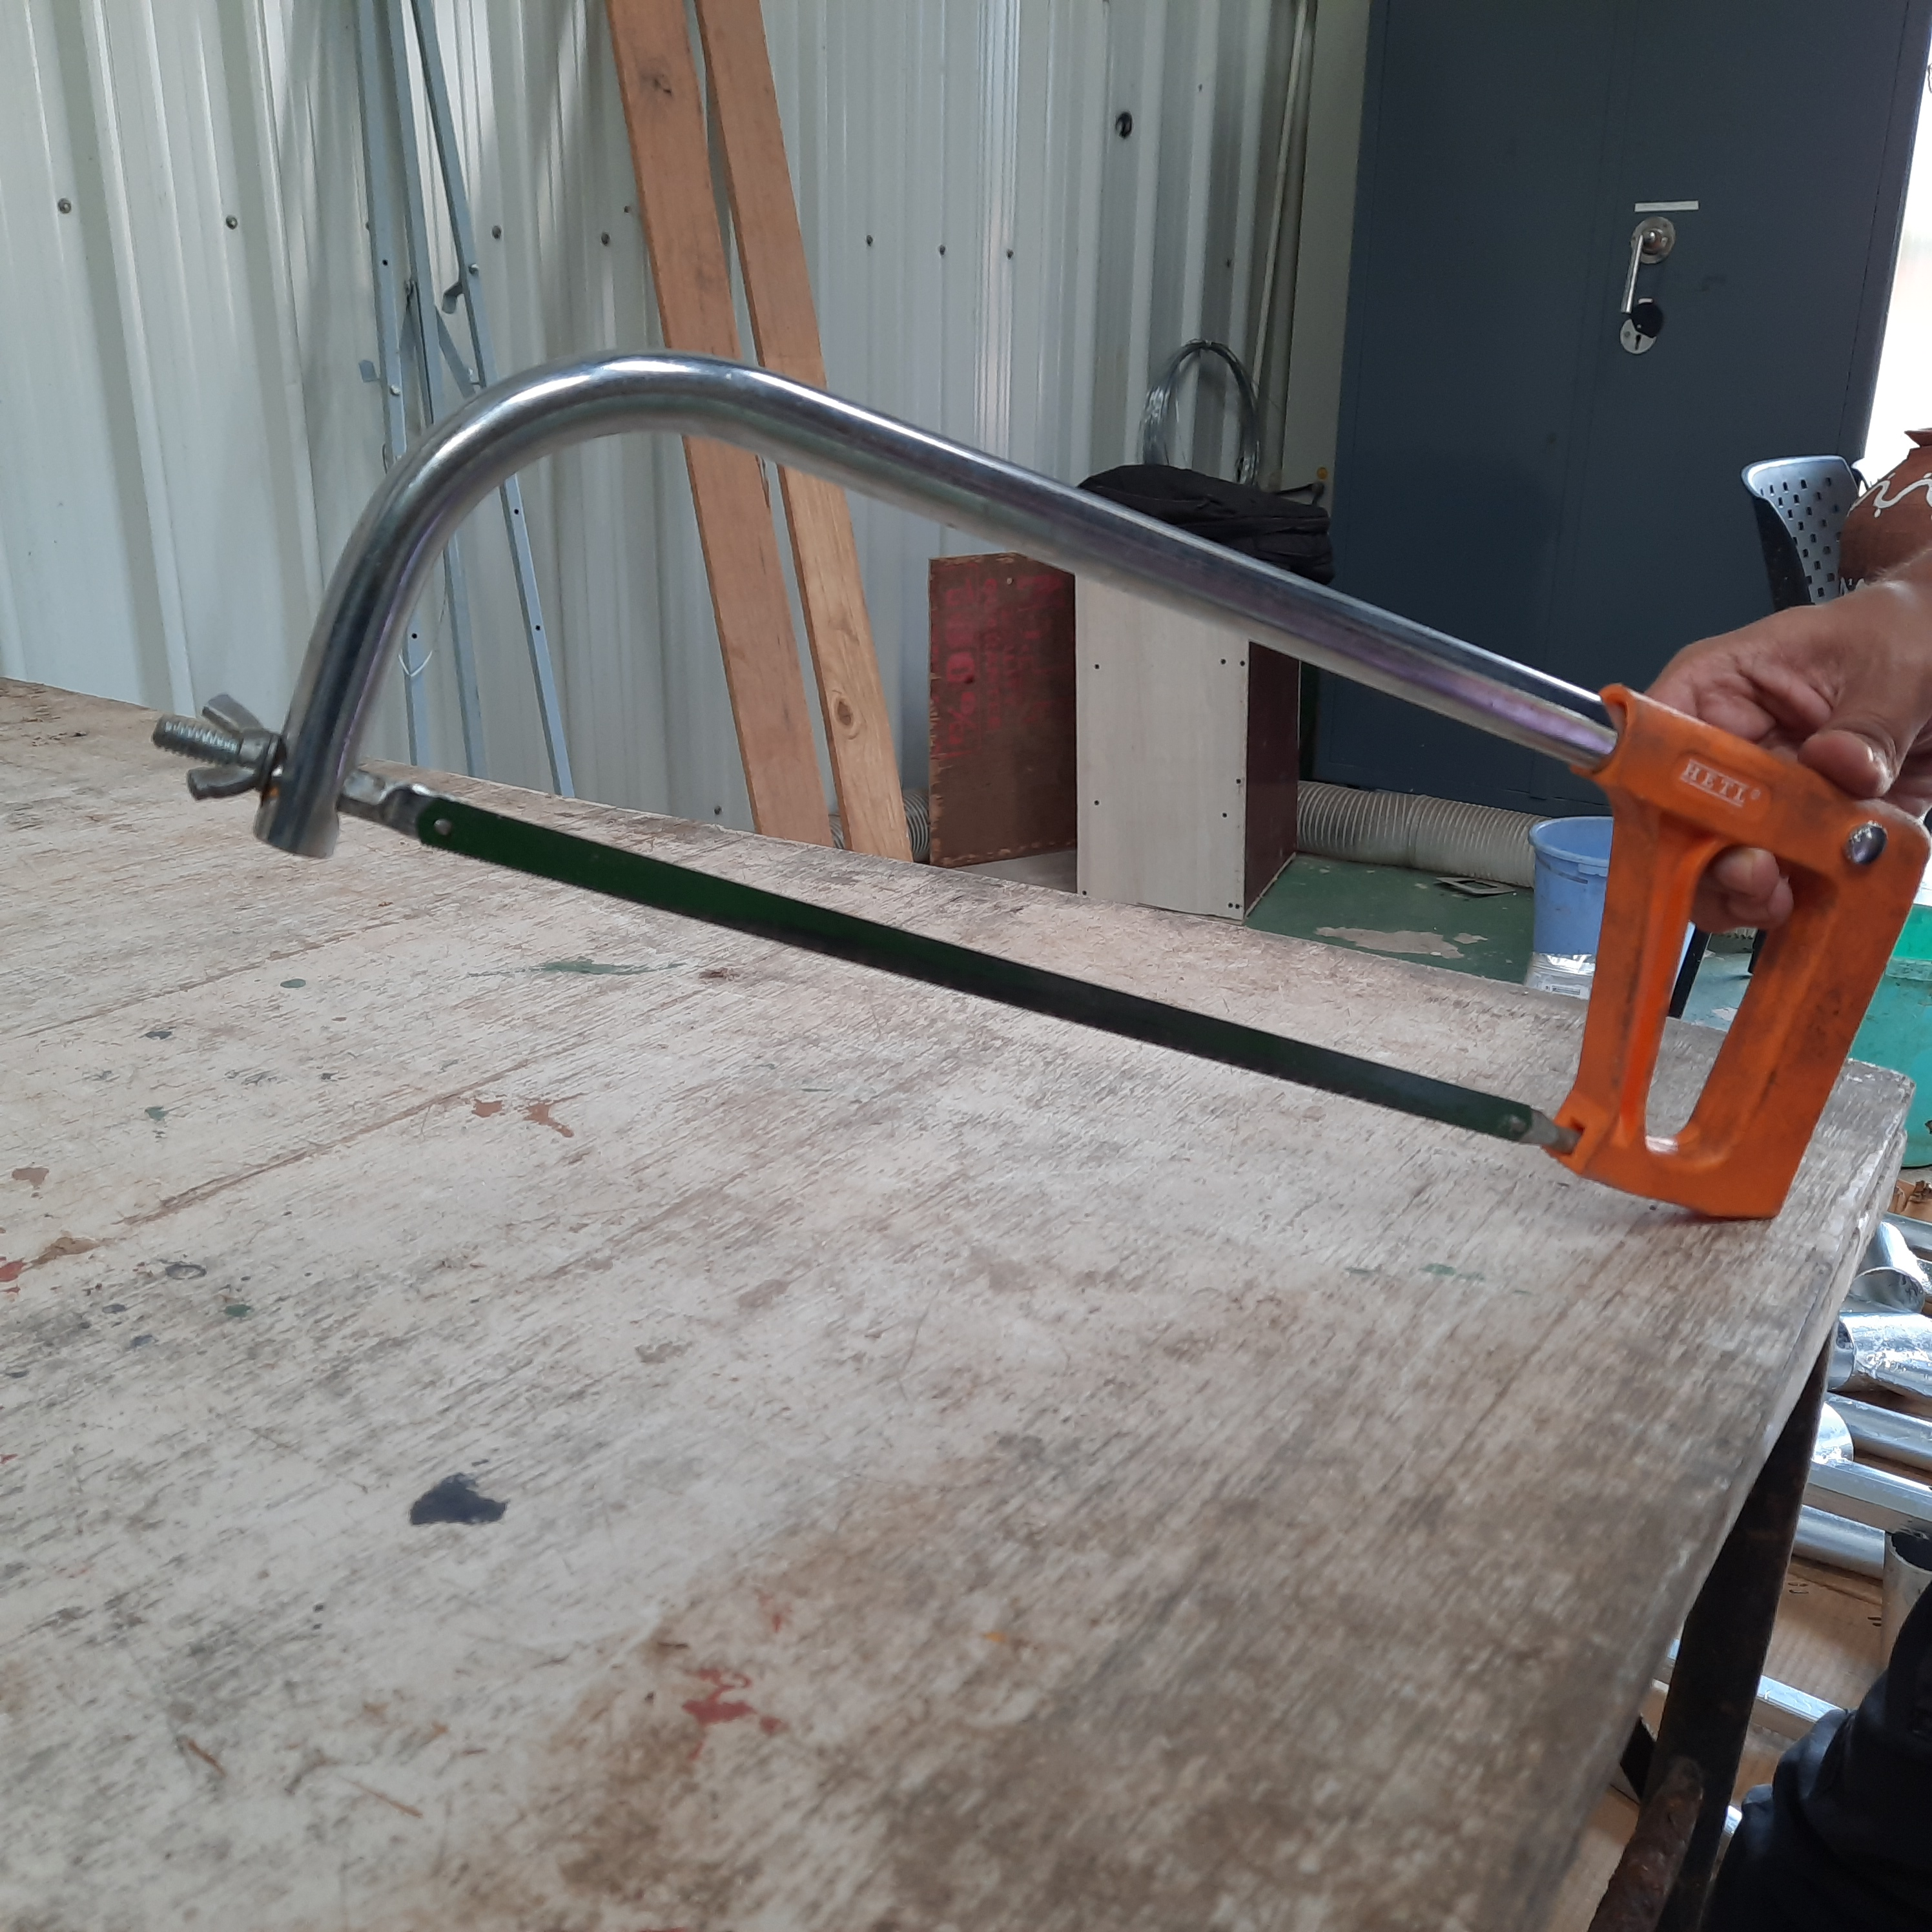Hexaframe: (138, 272, 1920, 1260)
